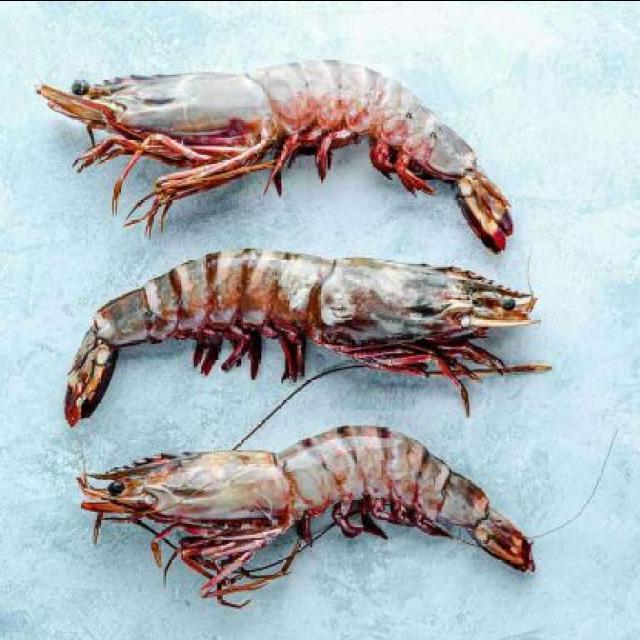shrimp: (17, 41, 520, 246), (56, 235, 539, 423), (60, 405, 535, 578)
